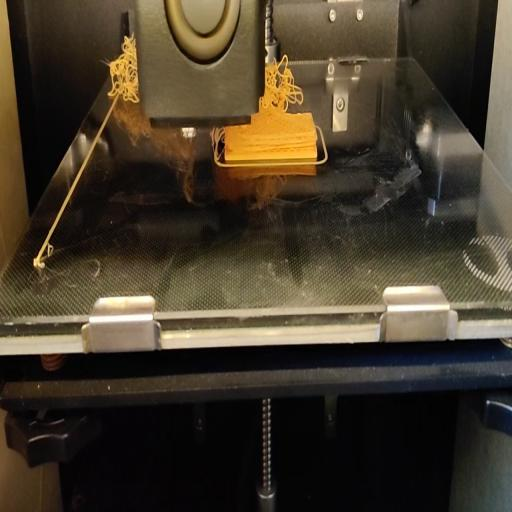spaghetti: (106, 32, 140, 104), (264, 58, 306, 116)
